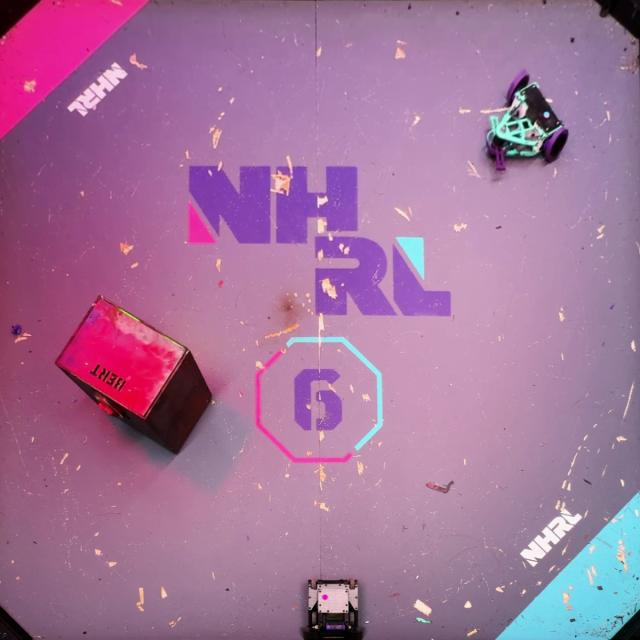housebot: (52, 292, 215, 456)
robot: (482, 67, 570, 173), (300, 577, 367, 640)
